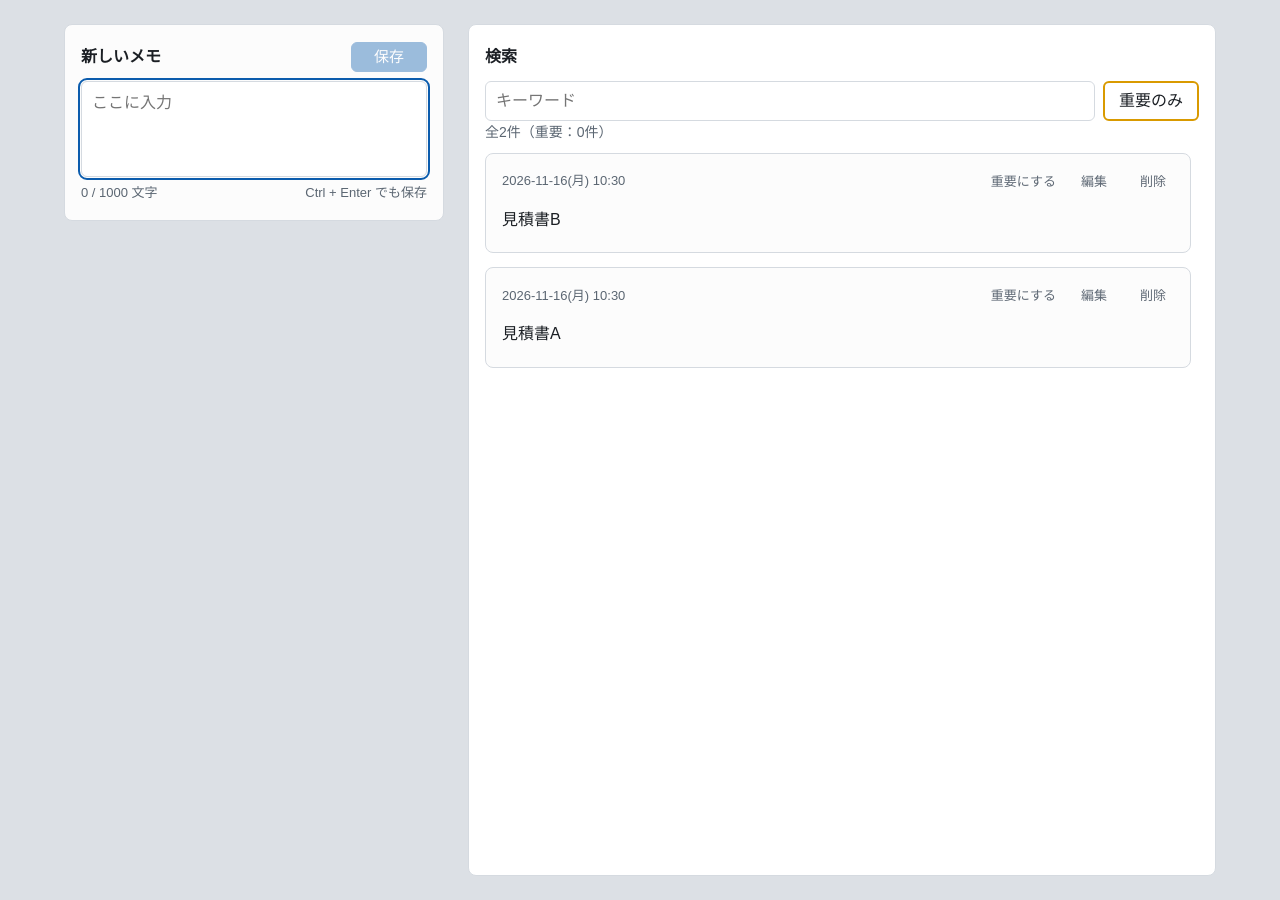
Test: 編集（F4） › 検索中に編集して、検索語に合わなくなったメモは、保存後に一覧から外れる
Expected: the text "見積書B" is shown, top-left (502, 211), bottom-right (561, 228)
Step 1. Type "見積書" into the search field named "キーワードで検索" → (790, 101), box top-left (485, 81), bottom-right (1095, 121)
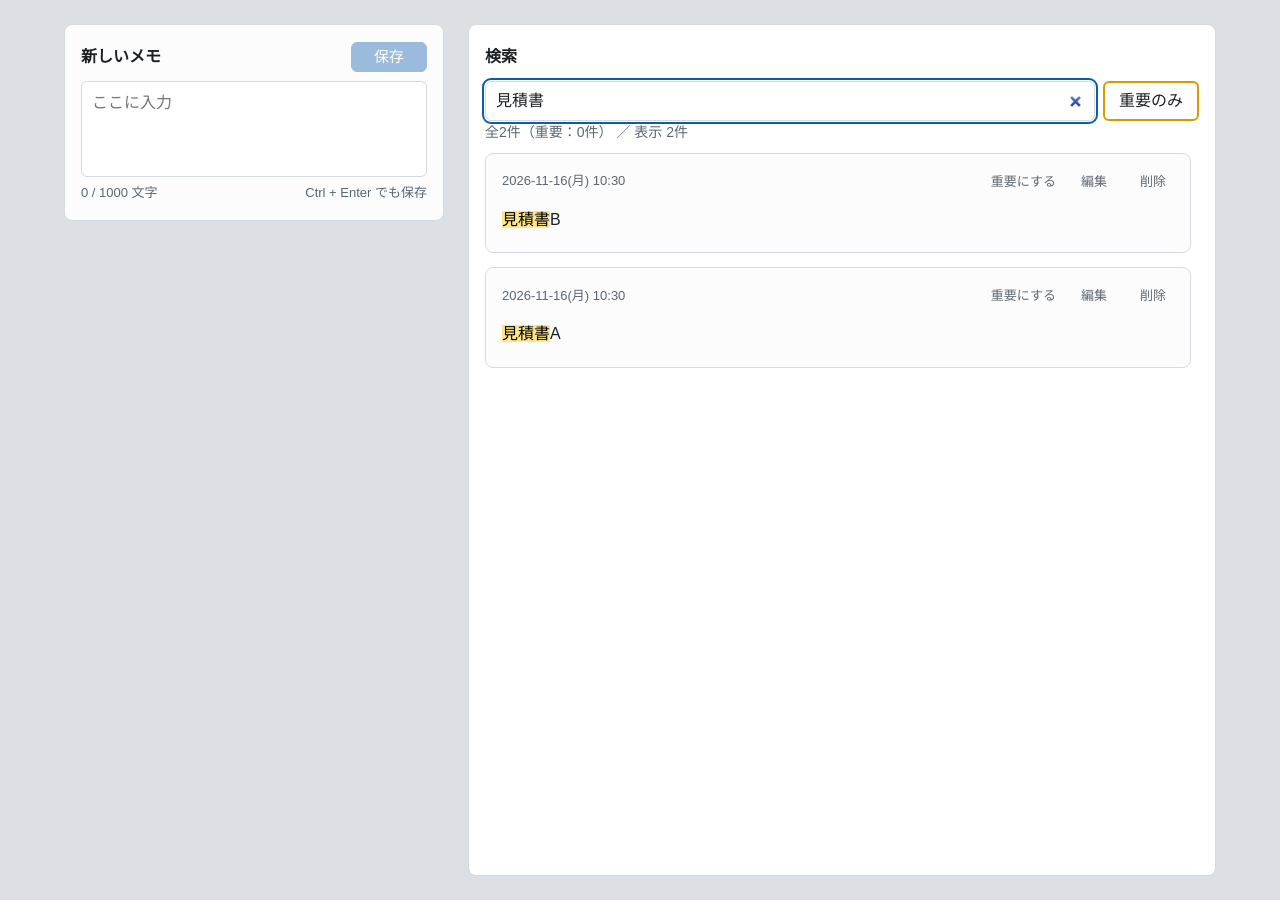
Now the text "全2件（重要：0件） ／ 表示 2件" is shown, box top-left (485, 124), bottom-right (688, 140)
Step 2. Click the 2nd button "編集" → (1094, 296), box top-left (1070, 283), bottom-right (1118, 309)
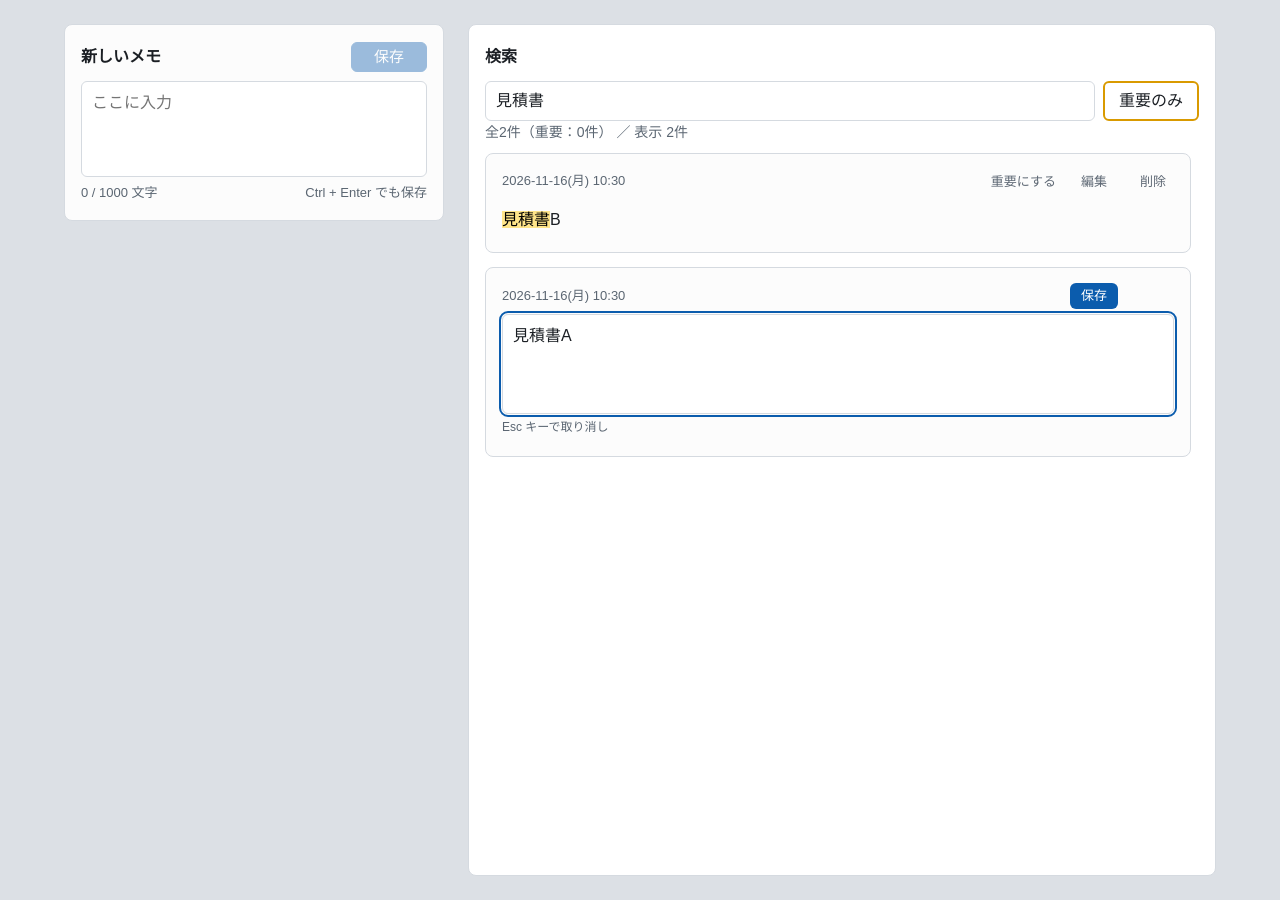
Step 3. Replace the text in the text box named "メモの本文を編集" with "会議室" → (838, 364), box top-left (502, 314), bottom-right (1174, 414)
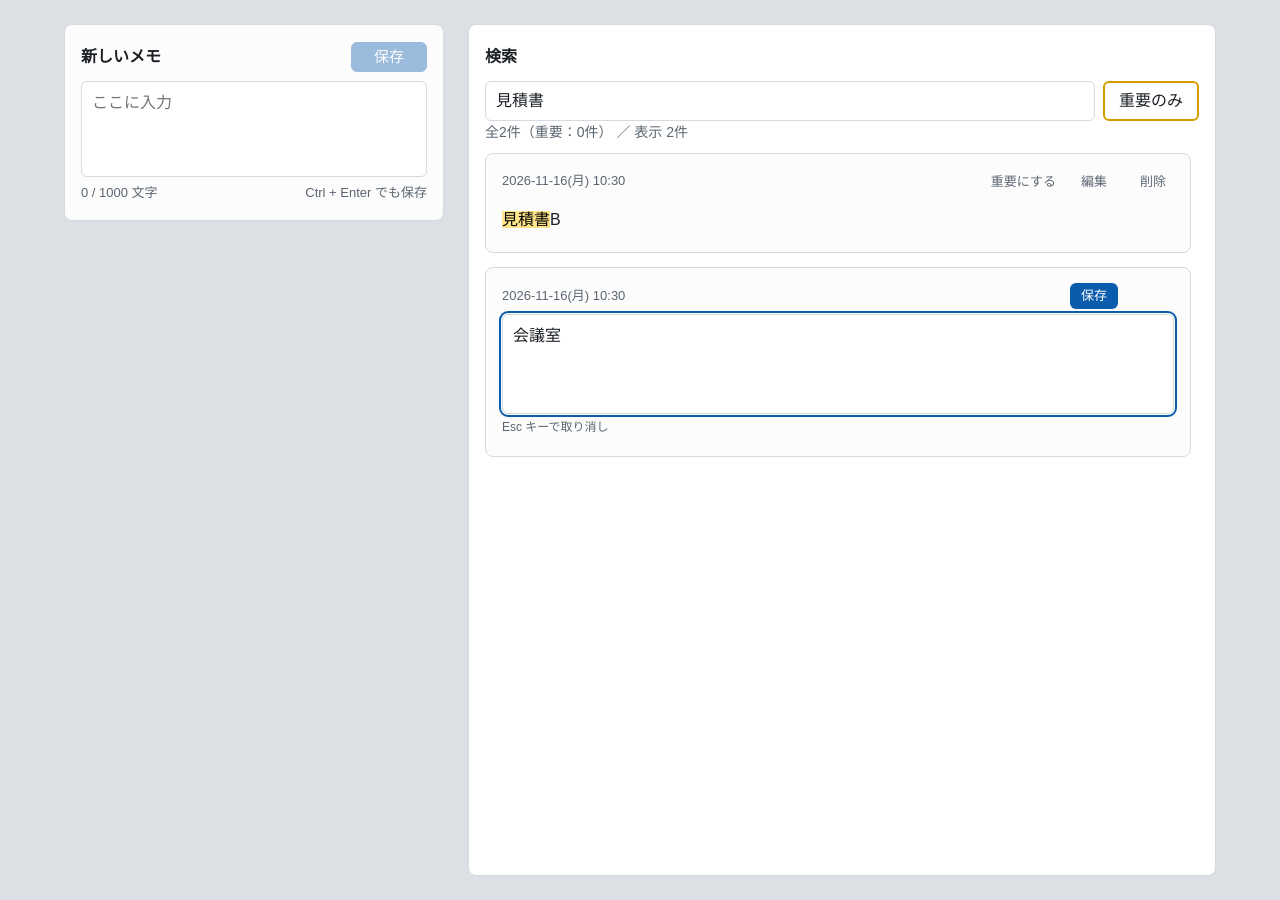
Step 4. Click the 2nd button "保存" → (1094, 296), box top-left (1070, 283), bottom-right (1118, 309)
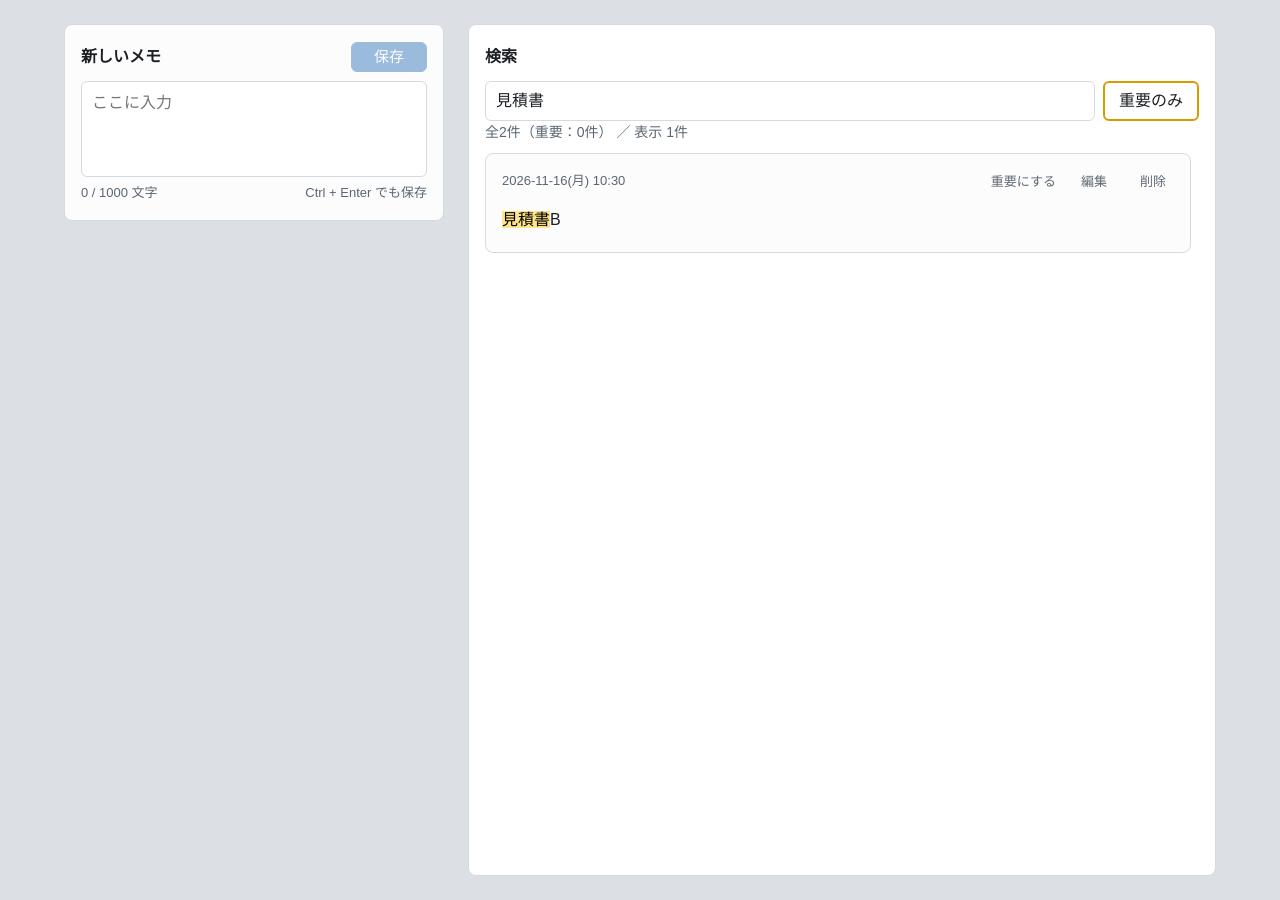
Now the text "全2件（重要：0件） ／ 表示 1件" is shown, box top-left (485, 124), bottom-right (688, 140)
